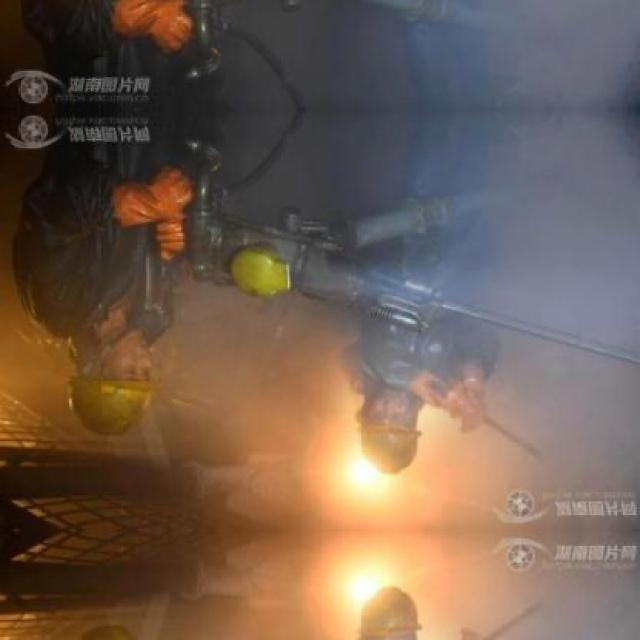con casco: (39, 305, 162, 441), (328, 406, 424, 506)
